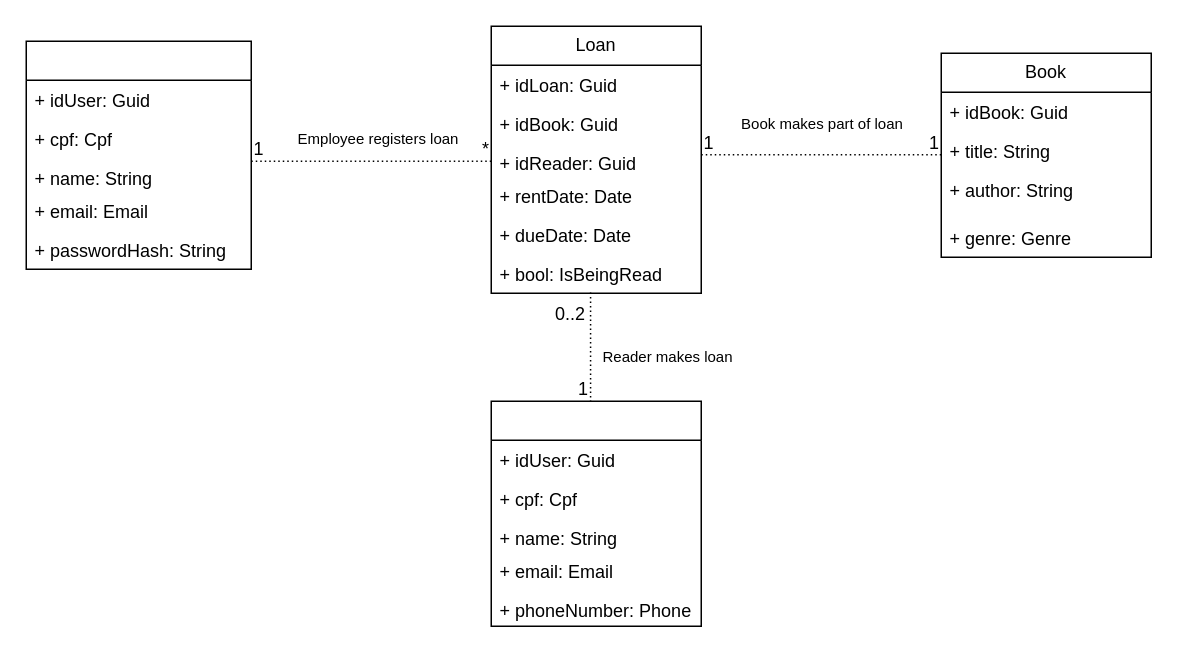
Image size: 1178x657. Some labels were removed from this diagram. The box of each missing label's shape, as (x1, y1, x2, y2) in pixels:
Employee: (25, 40, 251, 269)
Reader: (490, 400, 701, 626)
